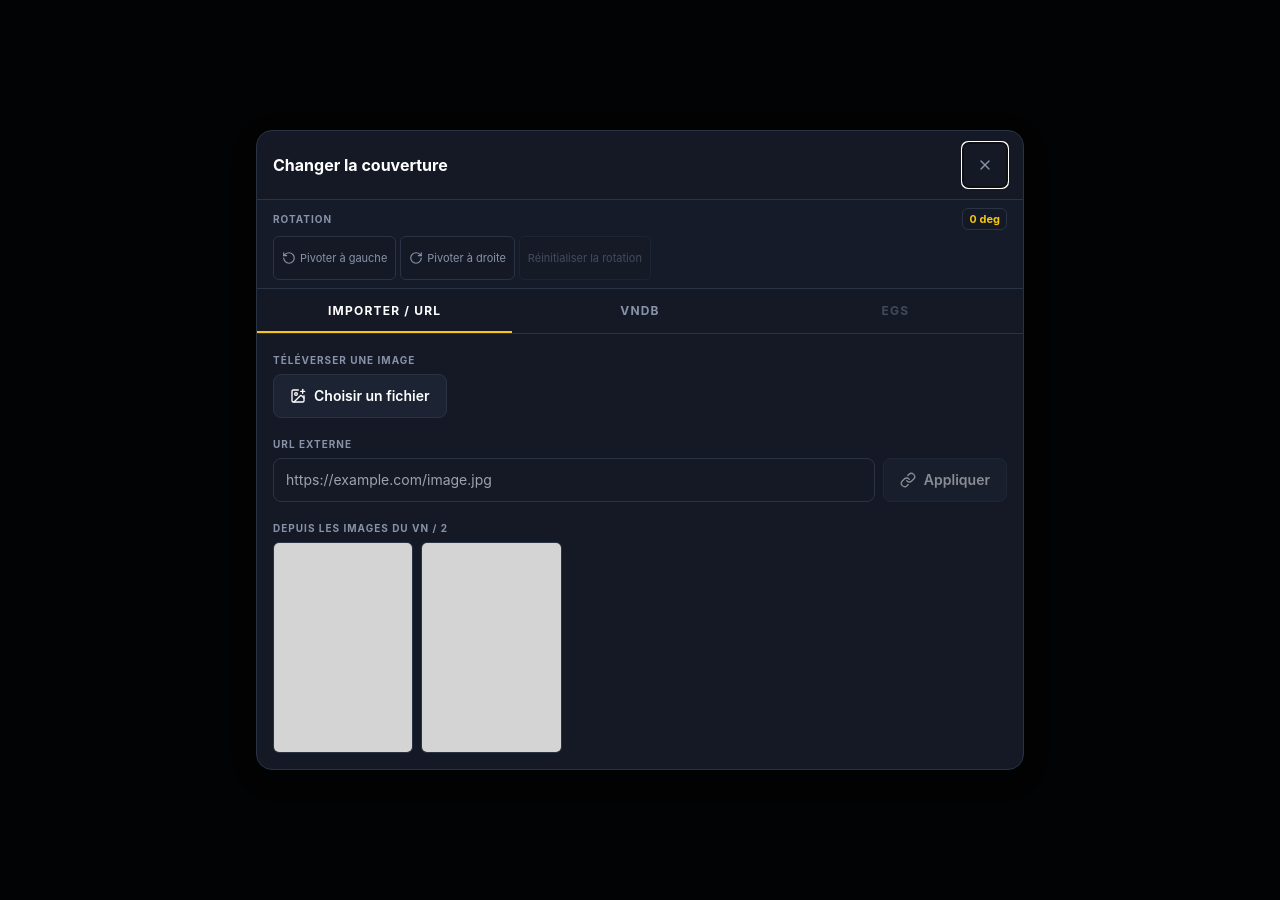
it: CoverSourcePicker › disables the VNDB reset button when VNDB is already the active source
The image size is (1280, 900).
expect the dialog is shown: met, box 256,130 -> 1024,770
Click the tab "VNDB". click: (640, 311)
box: 512,289 -> 768,333
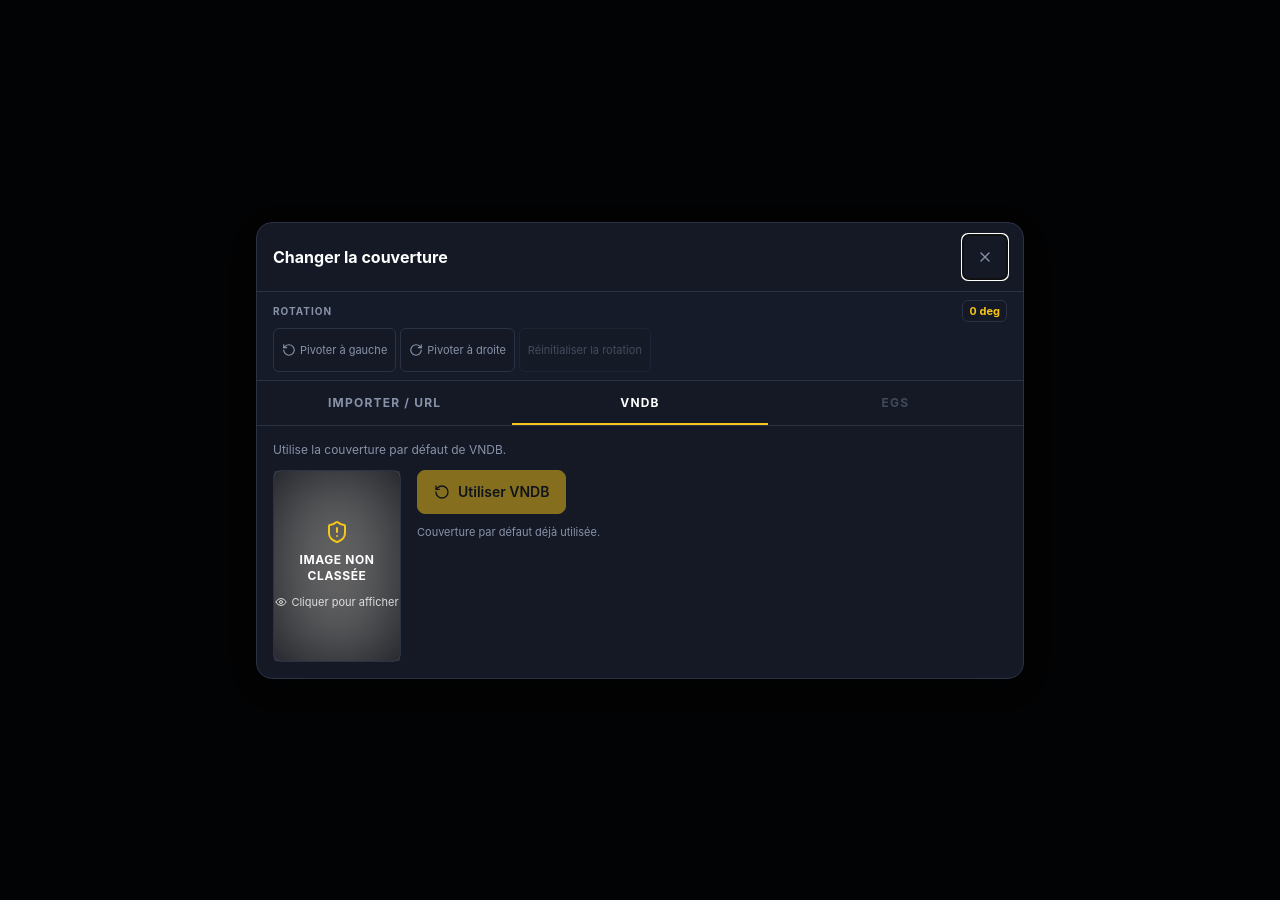
expect the button "Utiliser VNDB" is disabled: met, box 417,470 -> 566,514
expect the text "Couverture par défaut déjà utilisée." is shown: met, box 417,524 -> 600,538
